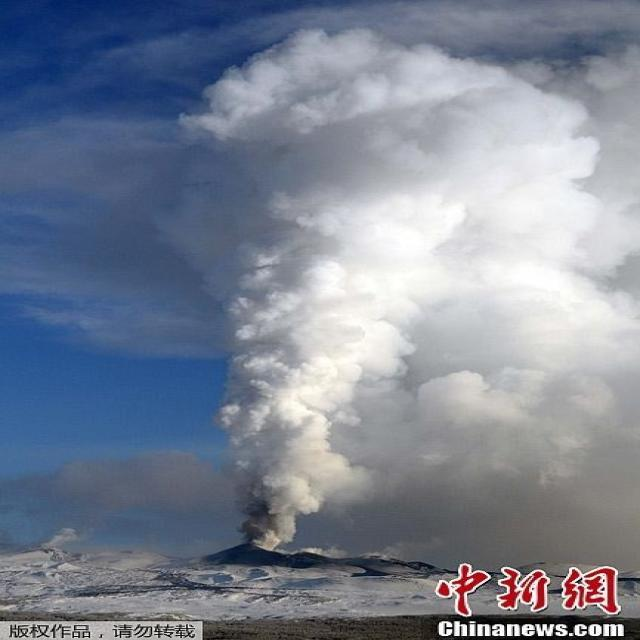Smoke: (151, 26, 640, 564)
